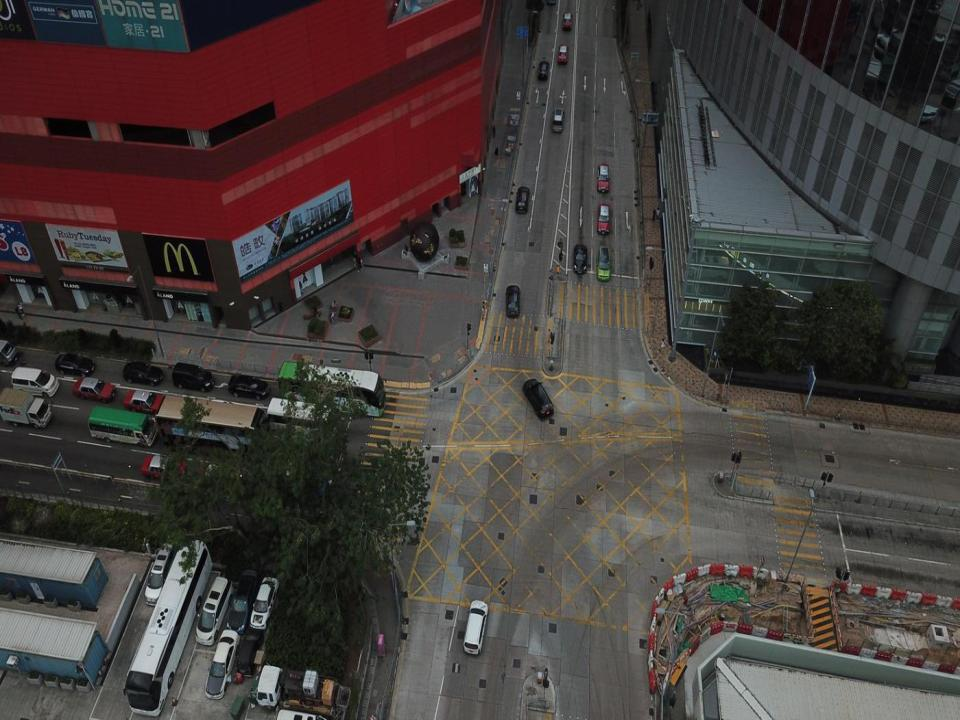bus: (155, 393, 270, 457), (277, 358, 386, 419), (265, 394, 330, 448), (88, 404, 156, 450)
car: (194, 576, 235, 647), (204, 629, 240, 701), (227, 567, 256, 634), (145, 541, 174, 607), (195, 460, 243, 495), (10, 364, 58, 399), (522, 375, 554, 424), (251, 573, 278, 630), (464, 598, 490, 657), (141, 450, 188, 482), (172, 360, 213, 393), (72, 374, 116, 404), (122, 359, 164, 387), (228, 371, 270, 399), (54, 351, 95, 376), (595, 242, 612, 285), (504, 283, 521, 318), (596, 201, 612, 235), (596, 160, 611, 195), (515, 185, 531, 216), (573, 243, 588, 275), (552, 107, 566, 134), (561, 10, 575, 32), (538, 59, 550, 83), (557, 44, 570, 64)
truck: (124, 536, 214, 718), (253, 662, 352, 717), (0, 387, 51, 428)
